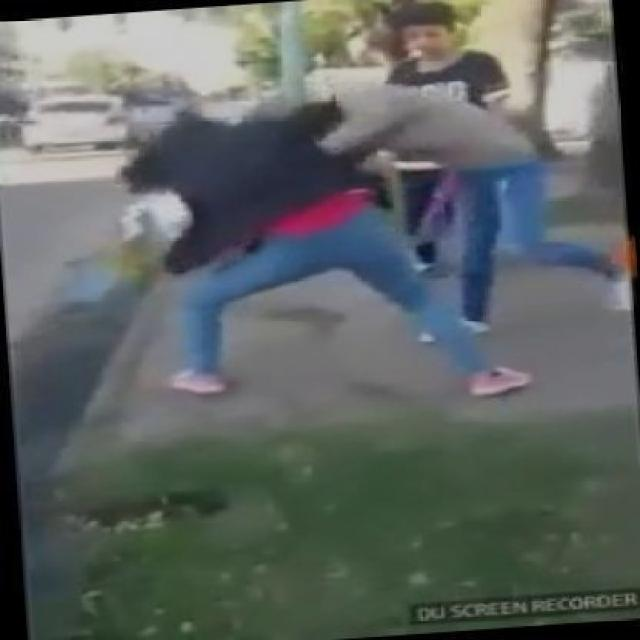fight: (91, 72, 633, 418)
